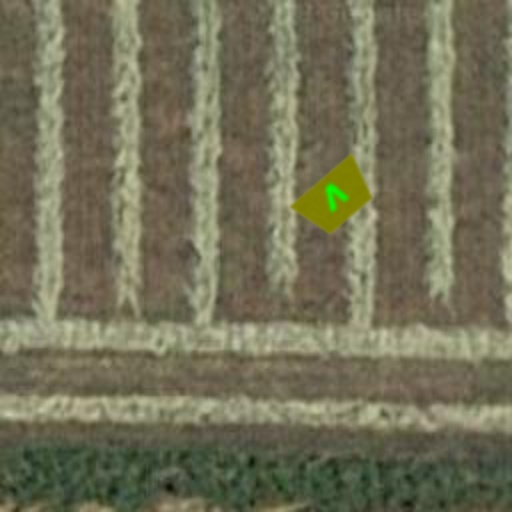trapezoid: (276, 138, 396, 258)
